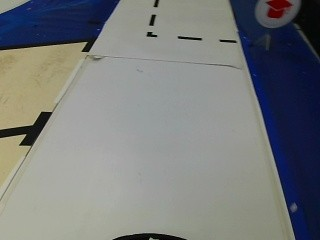school: (252, 0, 298, 29)
